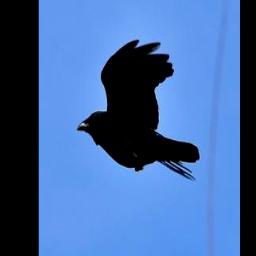Crow: (76, 39, 200, 184)
